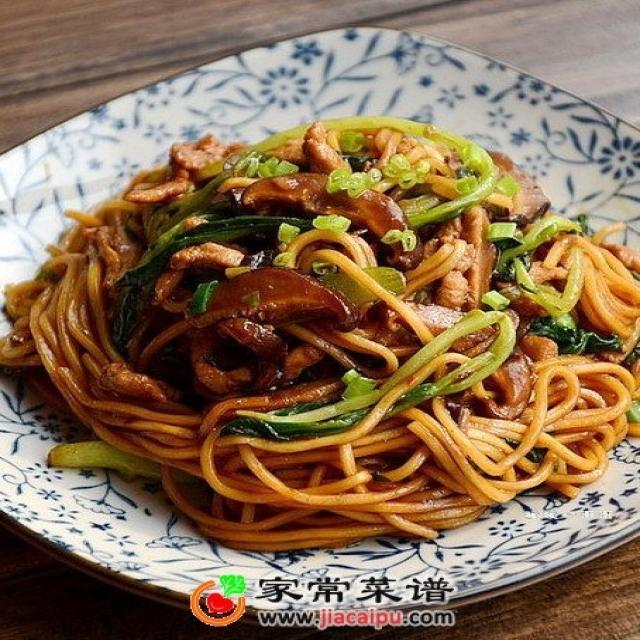面条主食: (20, 85, 623, 571)
